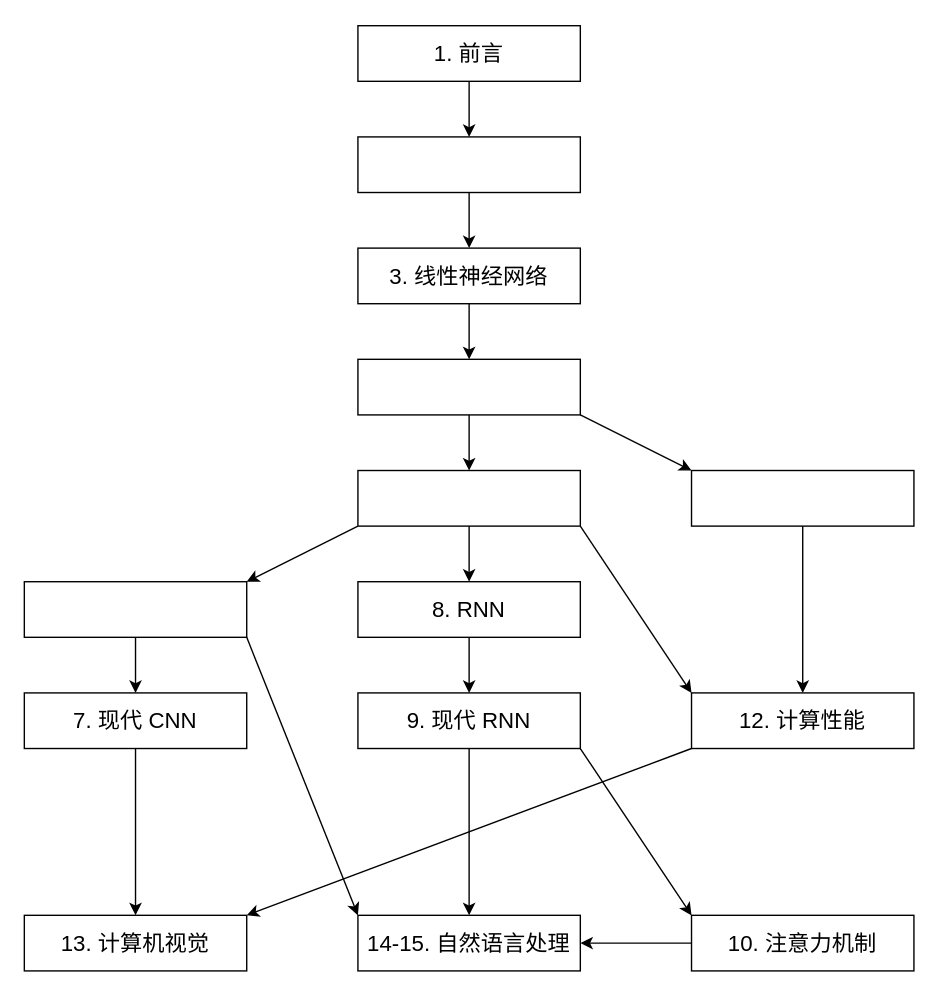
The diagram is 938 pixels wide and 997 high, and some of its shapes have lost their labels. The shapes that lost their labels are listed below. From the top down, each one's centre as x and y in pixels, then its label:
point (468, 164): 2. 预备知识
point (468, 386): 4. 多层感知机
point (468, 497): 5. 深度学习计算
point (802, 497): 11. 优化算法
point (135, 608): 6. CNN
